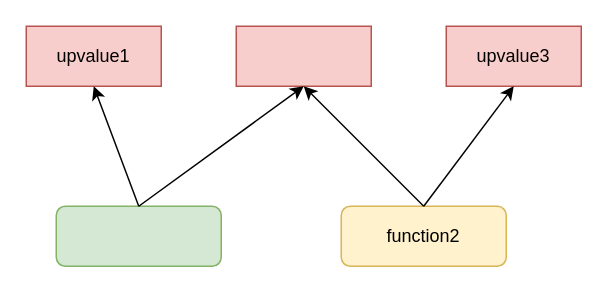
This 608x293 diagram has some shape labels left out. Here are the shapes that lost their labels. From the top down, the centre of each, then its label:
At [303,55]: "upvalue2".
At [138,235]: "function1".
